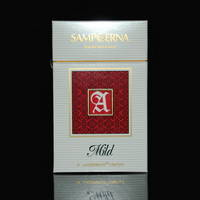A Mild: (53, 62, 146, 172)
